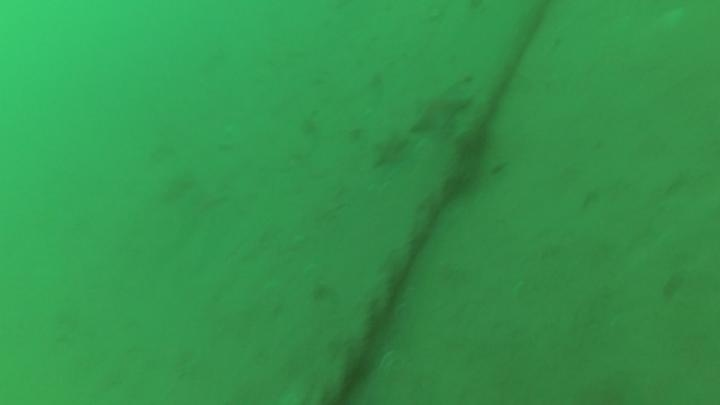starfish: (406, 82, 475, 140), (369, 129, 414, 172)
